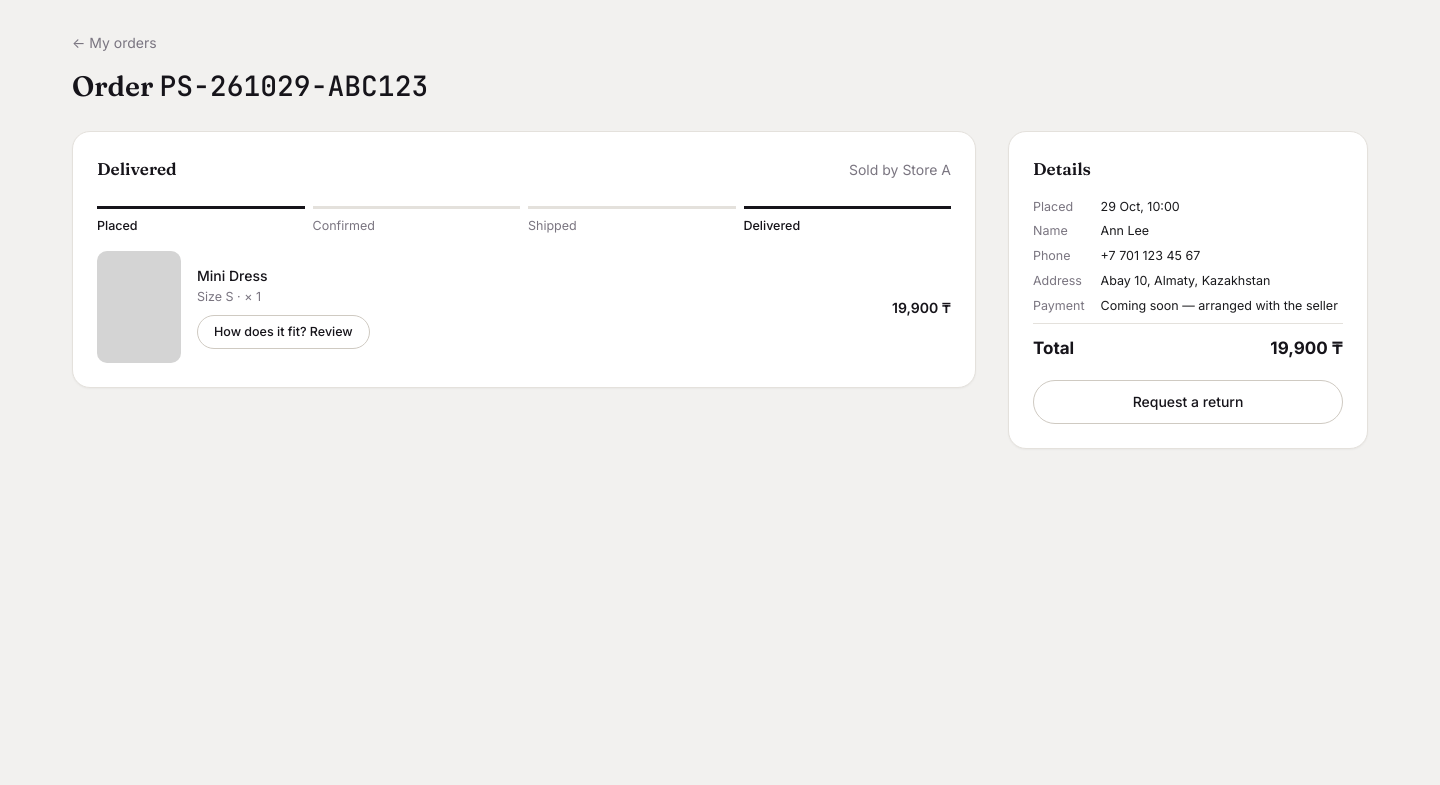
Scenario: a delivered order: the buyer asks for a return with the reason and where it was tight
Click the button "Request a return": (1188, 402) 1033,380 -> 1343,424
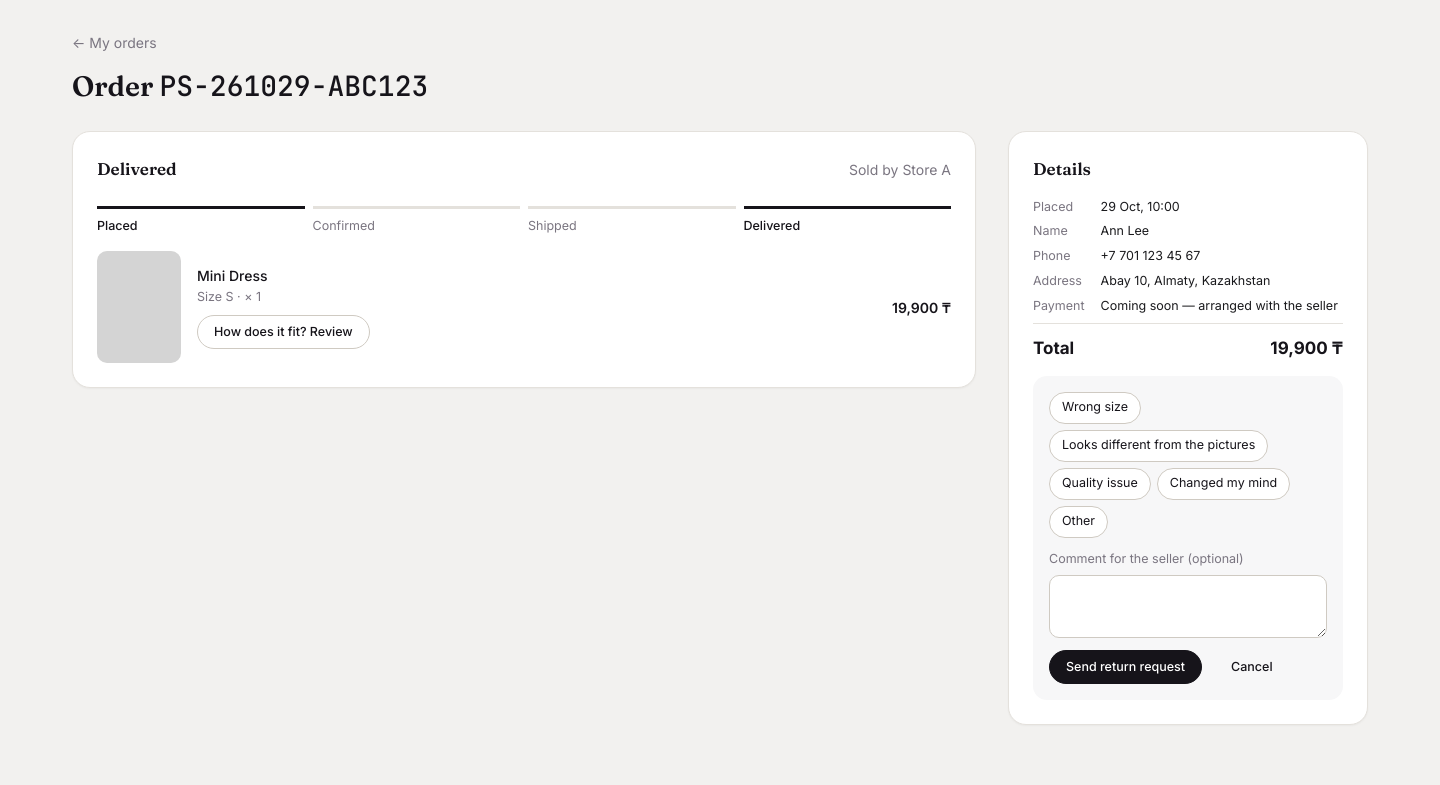
Click the button "Send return request": (1126, 667) 1049,650 -> 1202,684
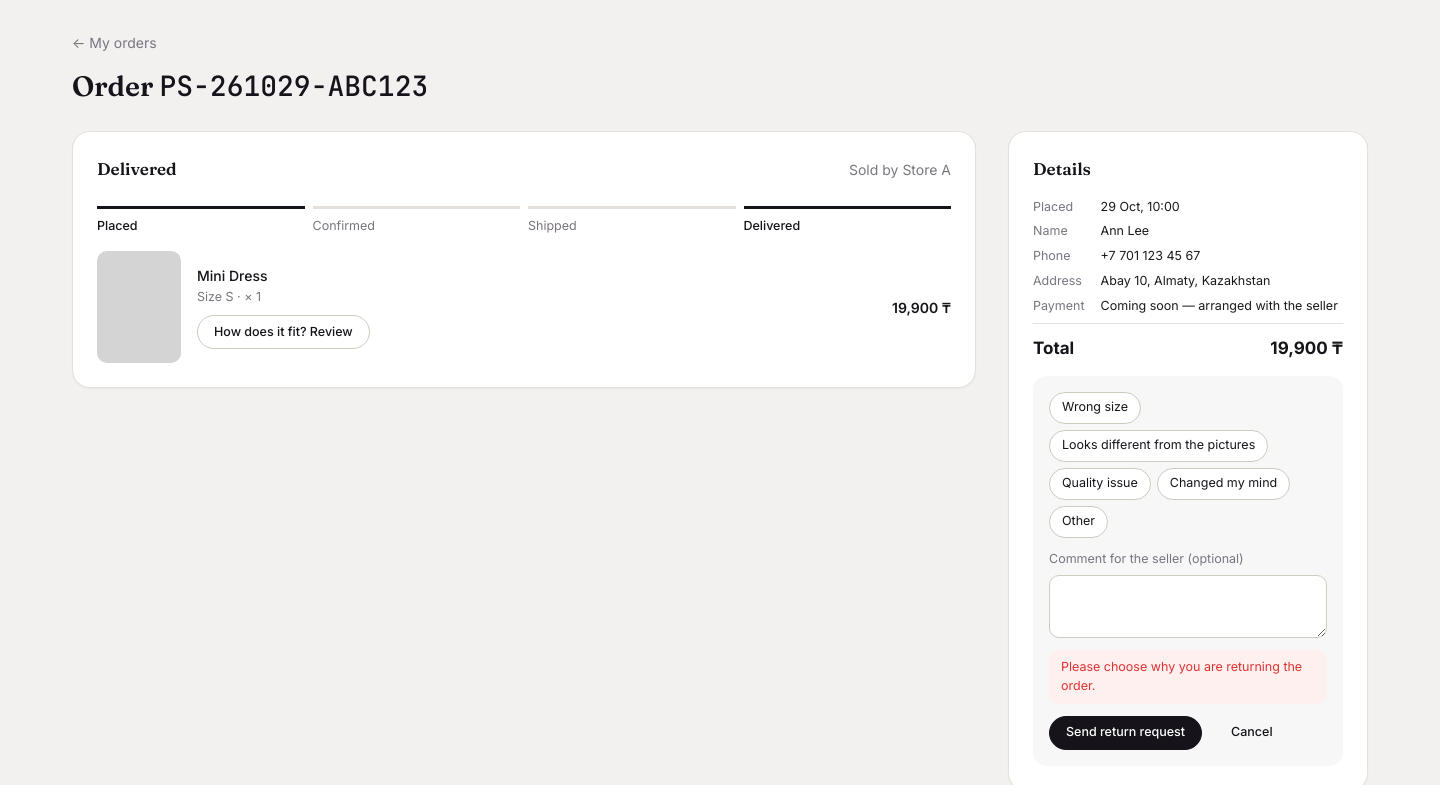
Result: the message reads "Please choose why you are returning the order." at 1061,659 -> 1302,693
Click the radio button labelled "Wrong size": (1095, 408) 1049,392 -> 1141,424
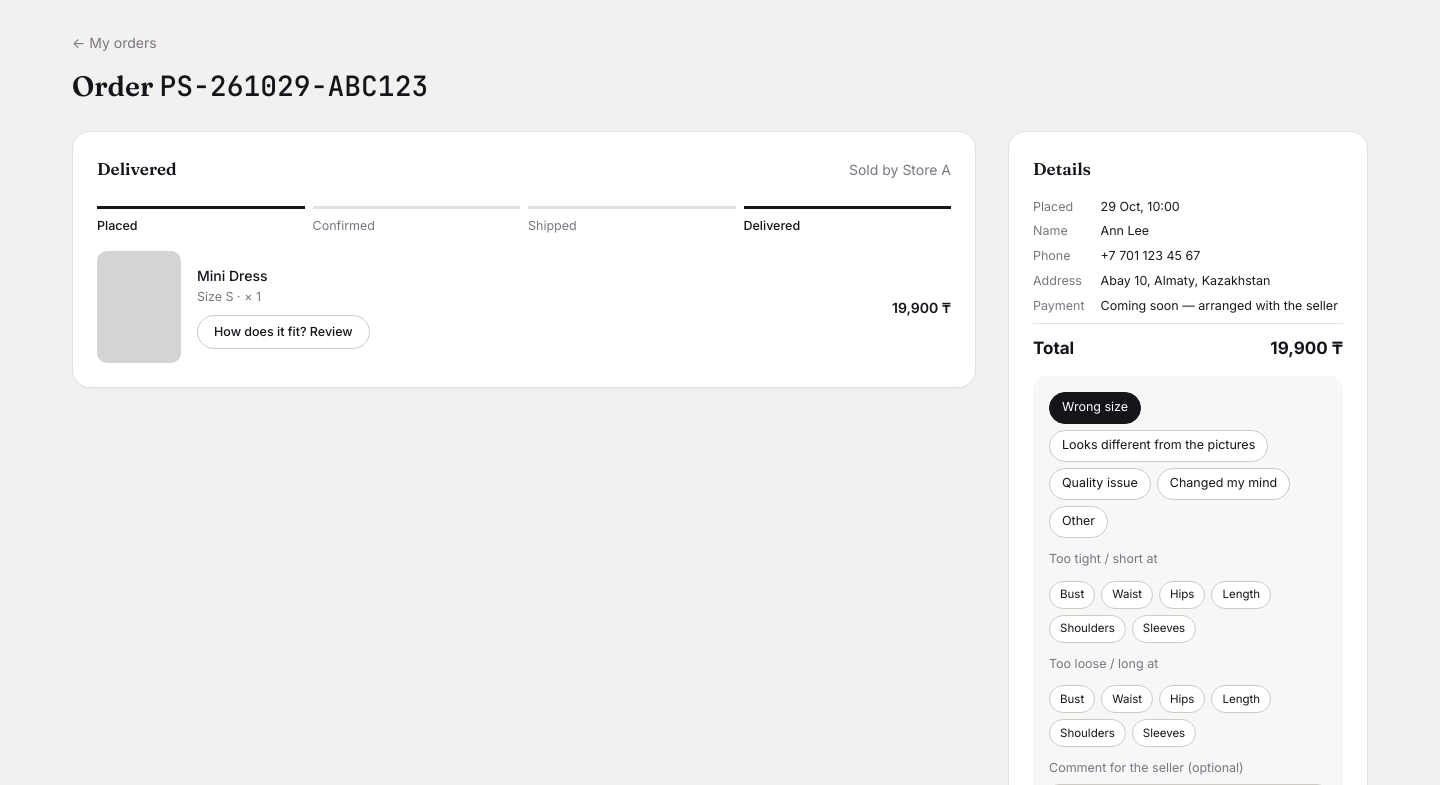
Click the button "Waist" below "Too tight / short at": (1127, 594) 1101,580 -> 1153,608
(page scrolled)
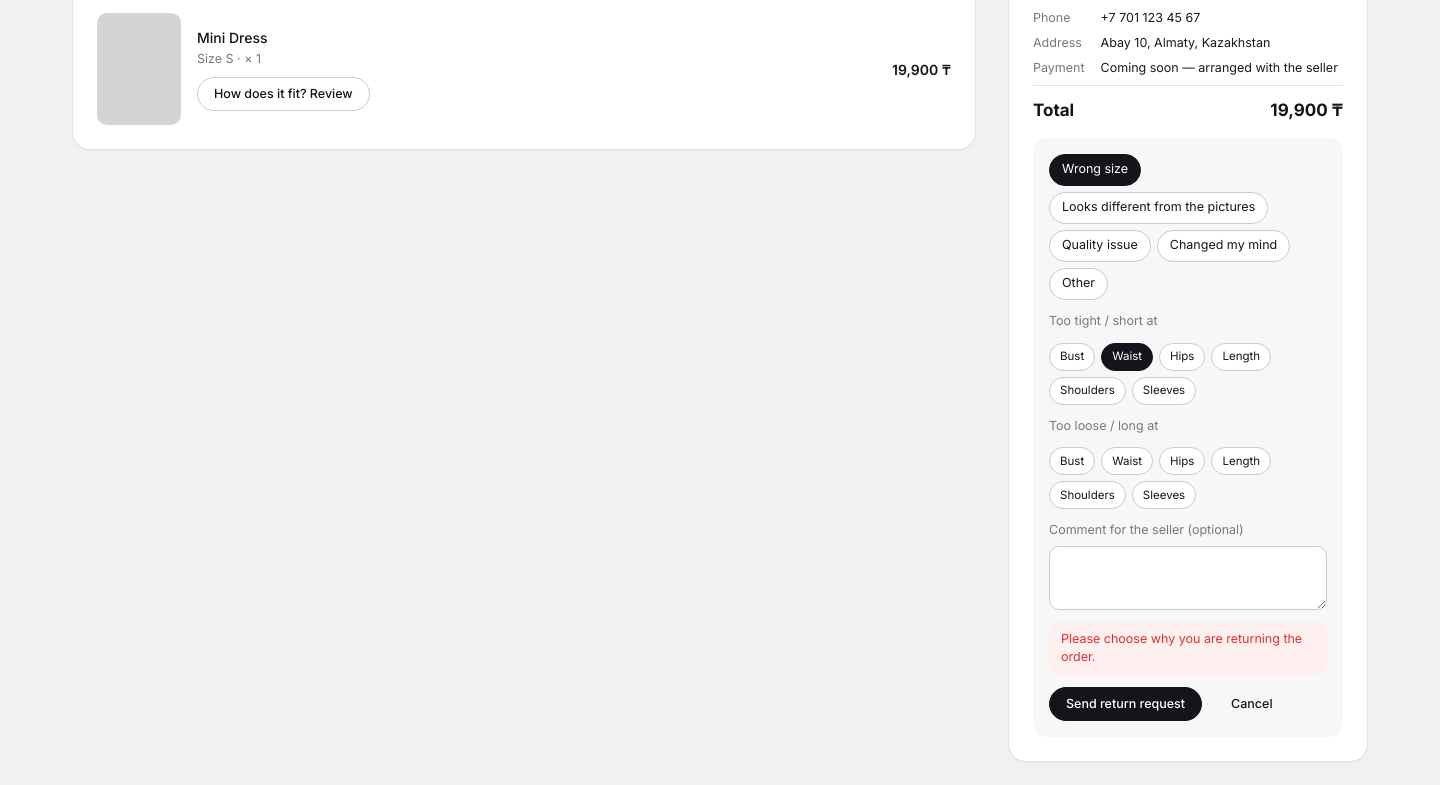
Click the button "Send return request": (1126, 704) 1049,687 -> 1202,721
(page scrolled)
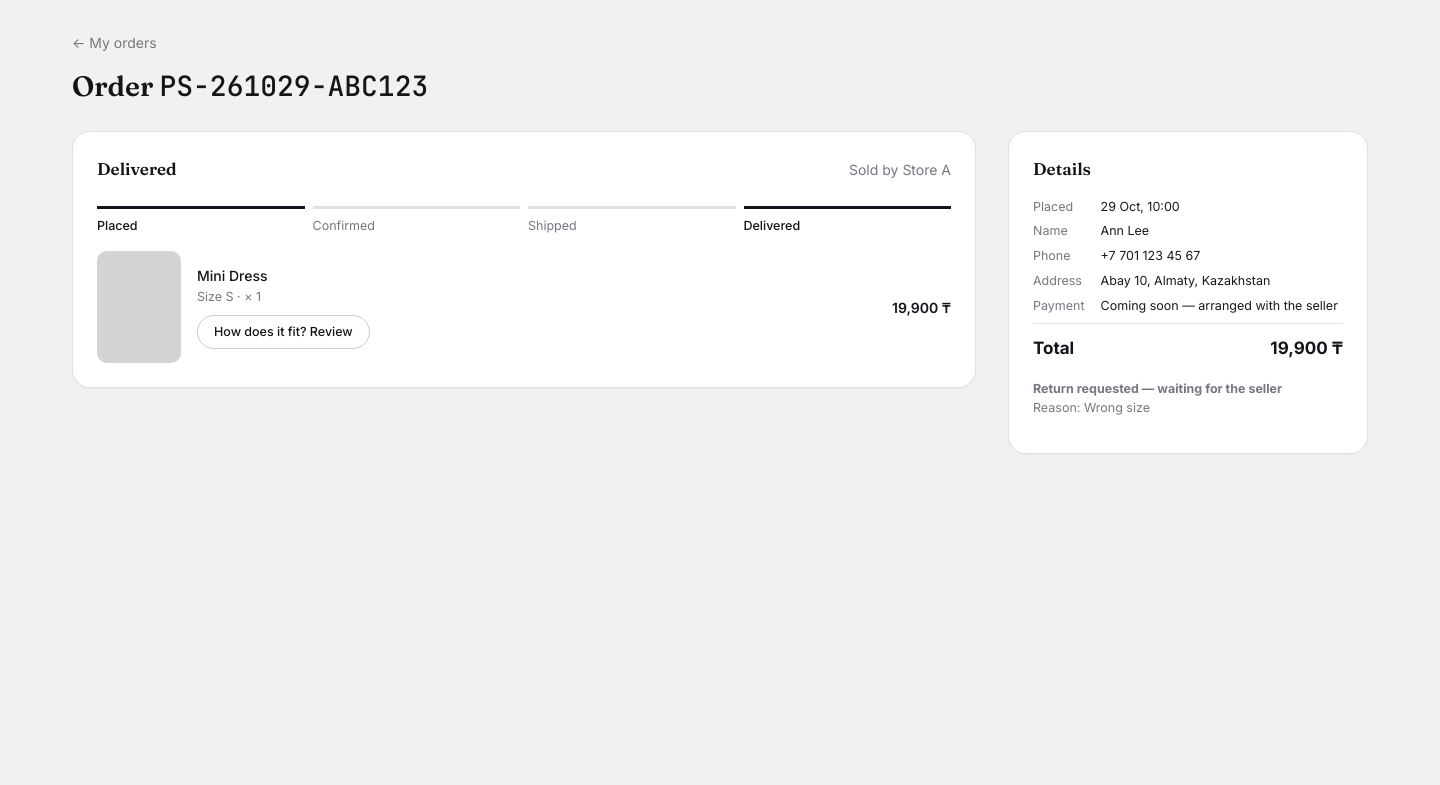
Result: the text "Return requested — waiting for the seller" is shown at 1033,381 -> 1282,396
